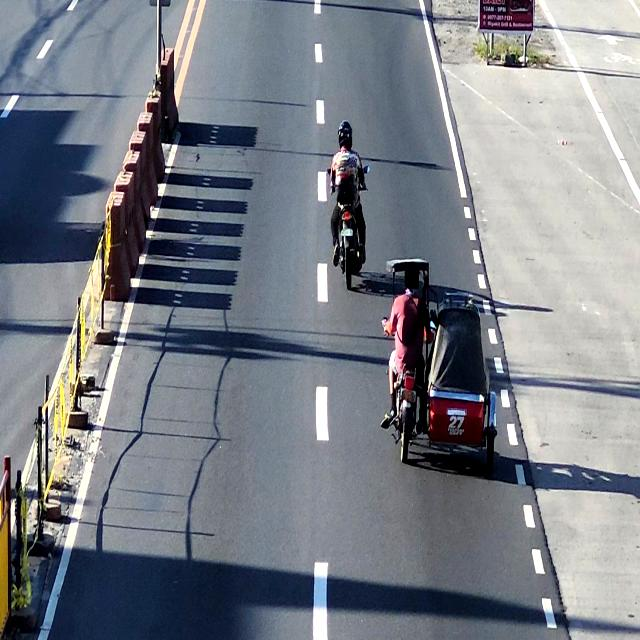Motorcycle: (326, 125, 368, 286)
Tricycle: (384, 256, 498, 468)
